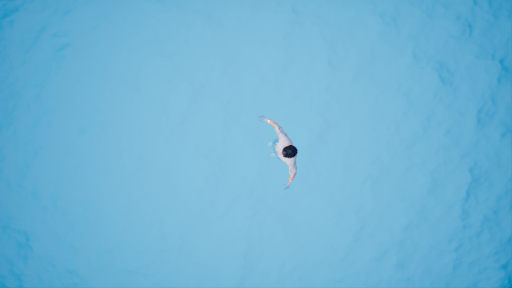person: (261, 114, 303, 192)
